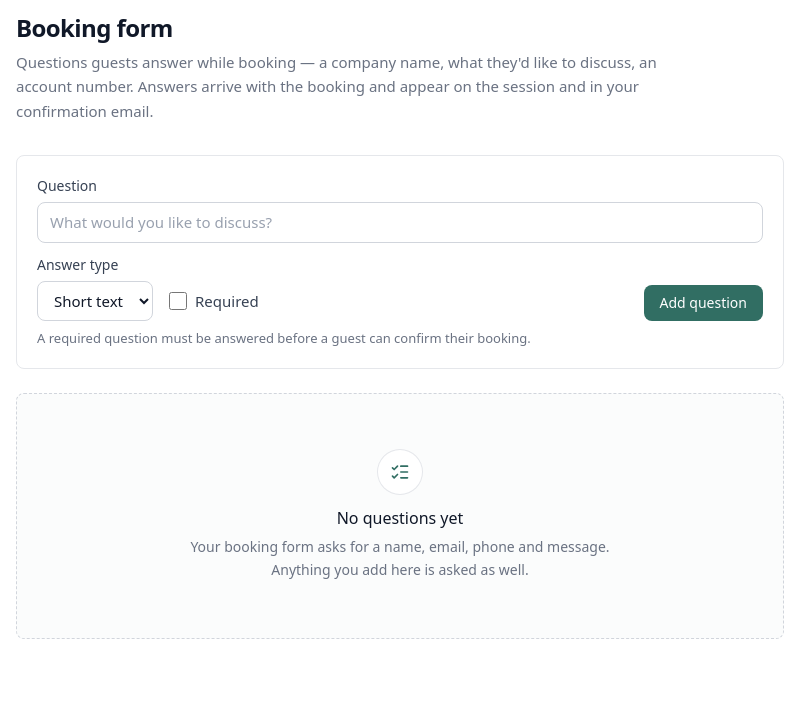
Test: BookingFormPage › reports the server's own message when adding is rejected
Expected: the text "No questions yet" is shown, [337,507,463,529]
Step 1. Type "x" into the field labelled "Question" → (400, 222), box [37,202,763,243]
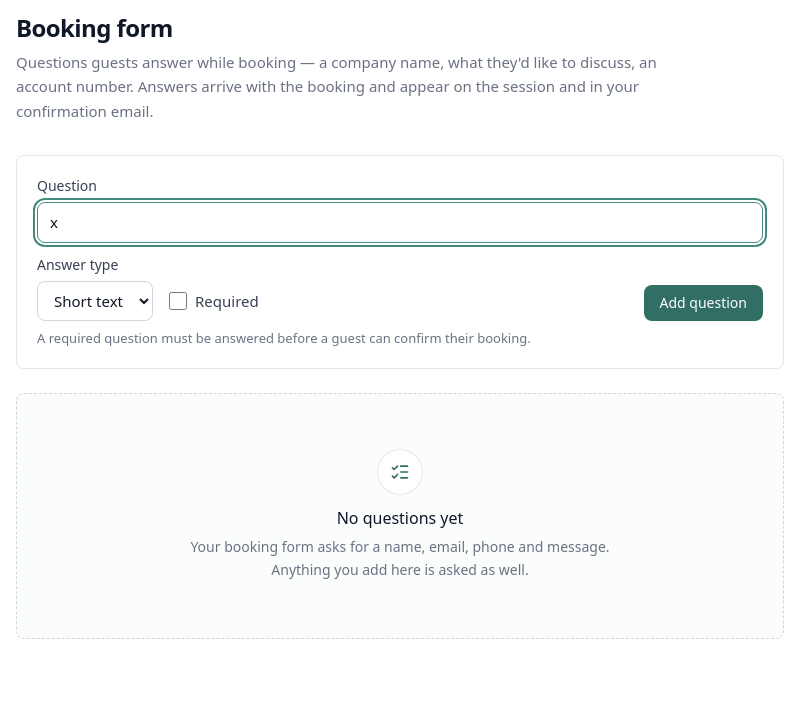
Step 2. Click the button "Add question" → click(703, 303), box [644,285,763,321]
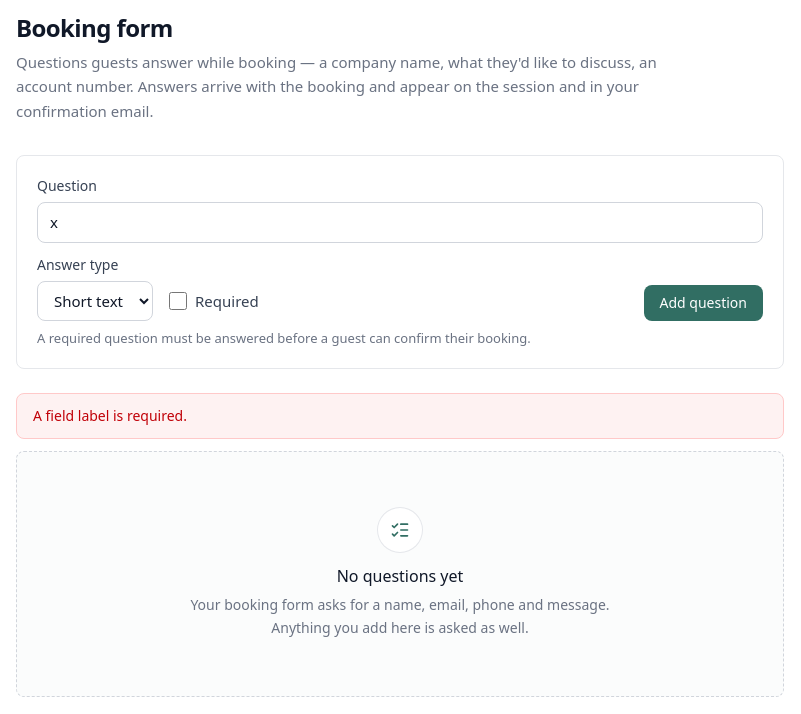
Expected: the text "A field label is required." is shown, [16,393,784,439]
